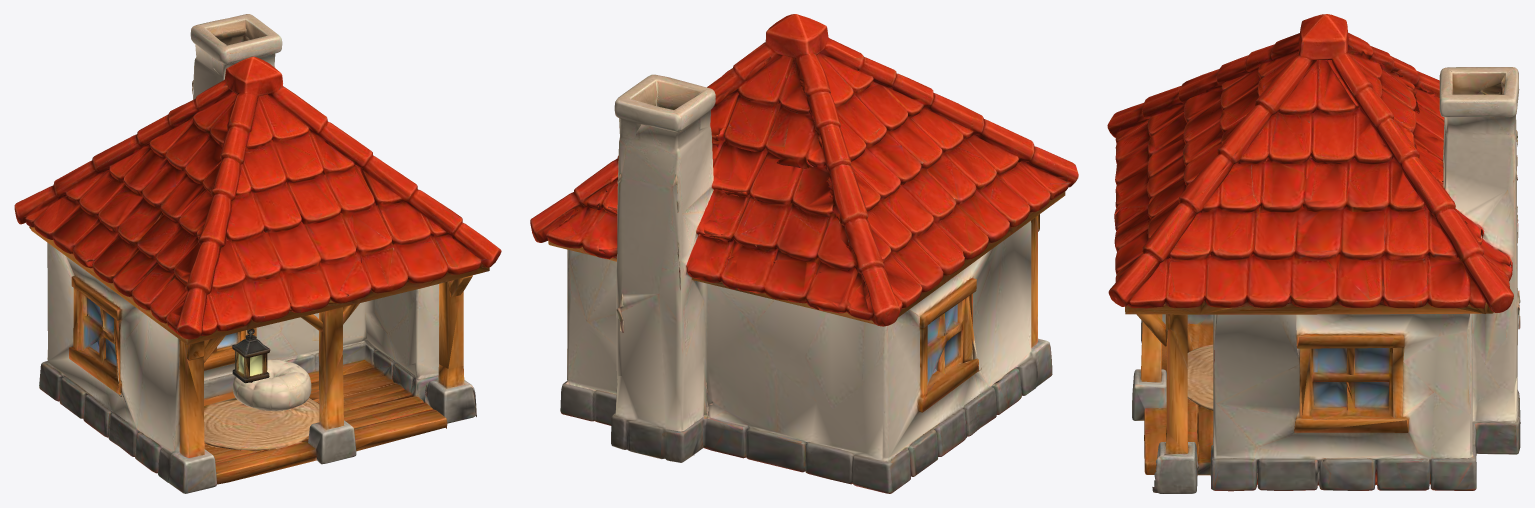
File: red_hip_cottage.glb
3 views of the same model, side by side, from view 1: azimuth 30°, elevation 25°; view 2: azimuth 150°, elevation 25°; view 3: azimuth 270°, elevation 25° (orthographic). The views are drawn at different scales.
Visible parts, largest first — view 1: red_hip_cottage; view 2: red_hip_cottage; view 3: red_hip_cottage.
Boxes of the visible parts, box(x1,y1,x2,y2) form: red_hip_cottage: box(14, 14, 501, 493); red_hip_cottage: box(530, 14, 1078, 493); red_hip_cottage: box(1107, 14, 1520, 493).
Bounding box in the file's own units: 2.39 × 2.4 × 2.27.
1 material, 1 textured.
